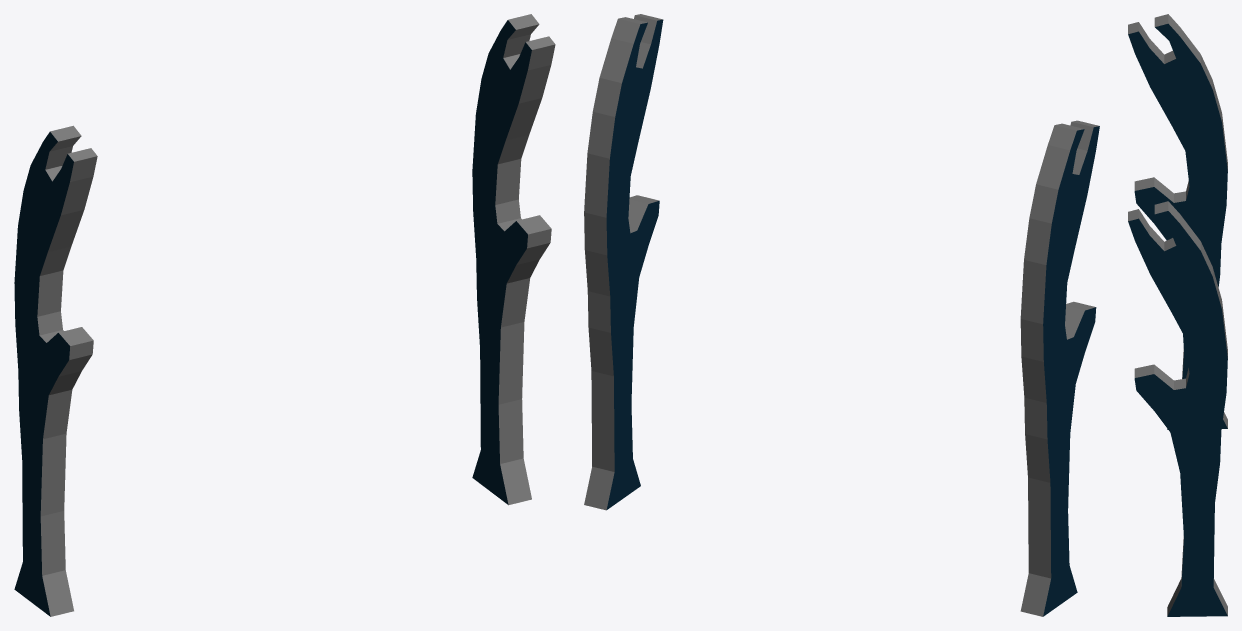
File: katana holder.fbx
3 views of the same model, side by side, from view 1: azimuth 30°, elevation 25°; view 2: azimuth 150°, elevation 25°; view 3: azimuth 270°, elevation 25° (orthographic). The views are drawn at different scales.
Parts seen in each view (by area): view 1: katana holder; view 2: katana holder; view 3: katana holder.
Part boxes in pixels (x1,y1,x2,y2): katana holder: [14, 14, 555, 616]; katana holder: [584, 14, 1099, 616]; katana holder: [1128, 14, 1227, 616].
Size of what is drawn, in the model's own units: 44.07 by 42.42 by 9.46.
